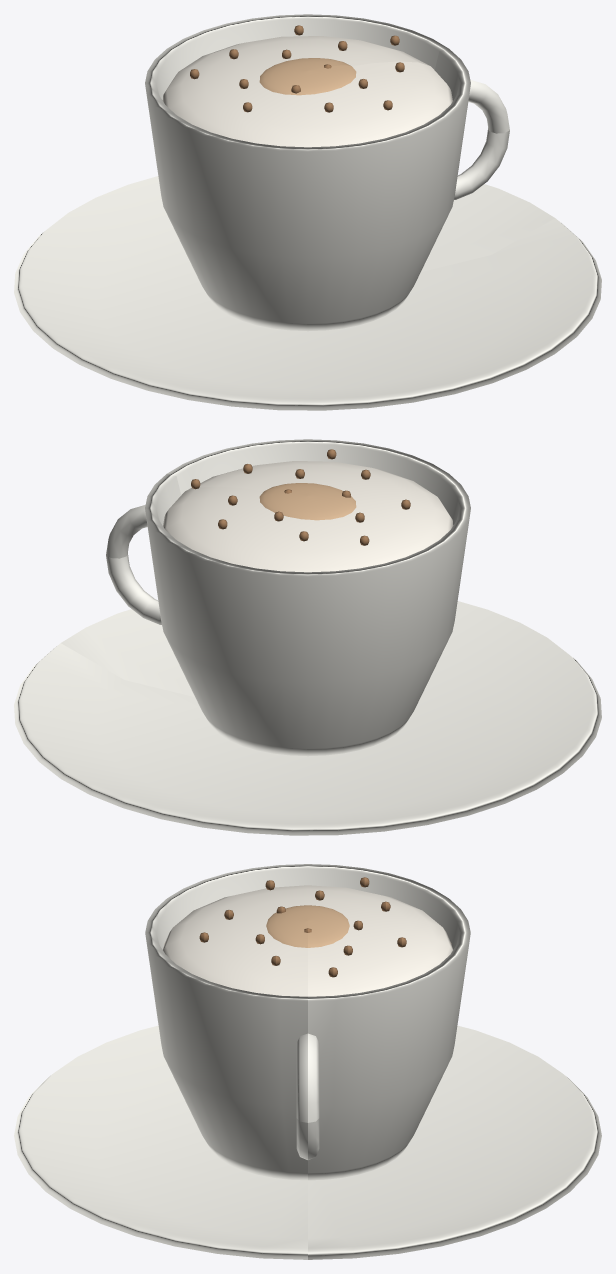
Rendered from cappuccino.glb.
3 renders of one model, top to bottom at view 1: azimuth 30°, elevation 25°; view 2: azimuth 150°, elevation 25°; view 3: azimuth 270°, elevation 25°, orthographic.
Visible parts, largest first — view 1: cappuccino; view 2: cappuccino; view 3: cappuccino.
Part boxes in pixels (bbox=[...]): cappuccino: bbox=[14, 14, 601, 410]; cappuccino: bbox=[14, 439, 601, 835]; cappuccino: bbox=[14, 864, 601, 1259].
Size of the model in its own units: 0.13 by 0.0594 by 0.13.
